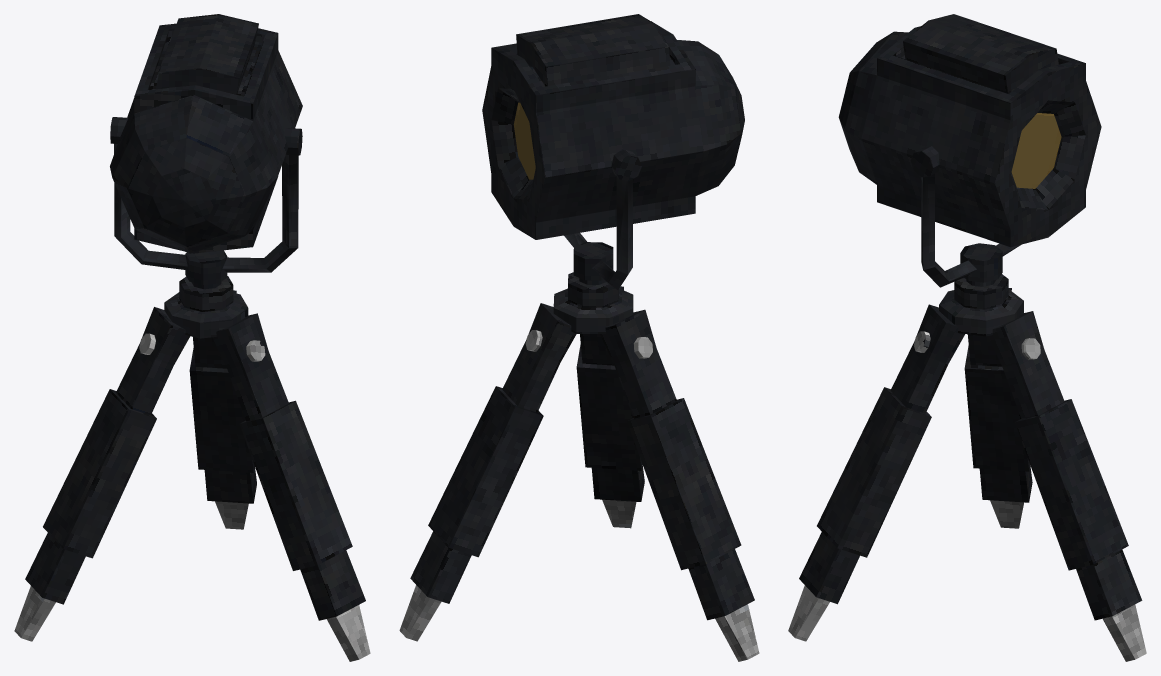
The model's file is SM_Spotlight_Base.glb.
The picture shows the model from 3 angles, left to right: view 1: azimuth 30°, elevation 25°; view 2: azimuth 150°, elevation 25°; view 3: azimuth 270°, elevation 25°; orthographic projection.
Parts seen in each view (by area): view 1: SM_SpotlightBase; view 2: SM_SpotlightBase; view 3: SM_SpotlightBase.
Boxes of the visible parts, x1,y1,x2,y2 form: SM_SpotlightBase: (14, 14, 370, 661); SM_SpotlightBase: (399, 14, 759, 661); SM_SpotlightBase: (788, 14, 1146, 661).
Size of the model in its own units: 1.1 by 2.06 by 1.17.
Materials: 1 (1 with a texture image).
